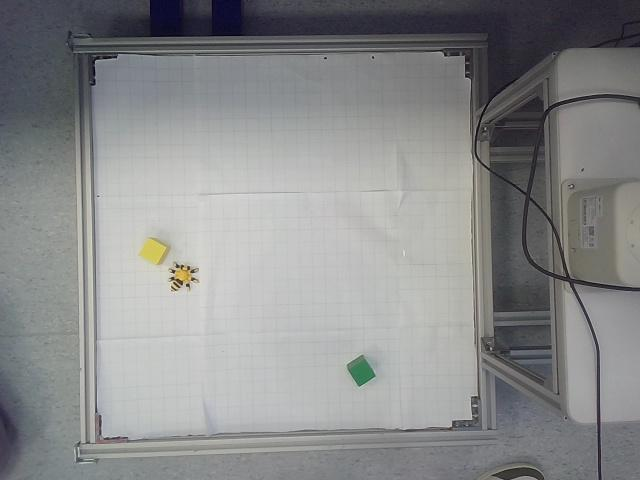frelon: (168, 262, 200, 292)
